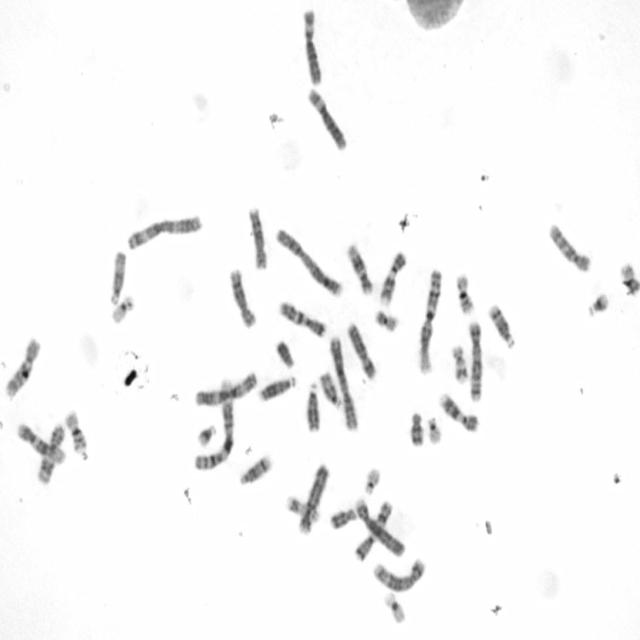A1: (193, 377, 237, 472), (416, 267, 443, 376)
A2: (274, 226, 344, 298), (329, 336, 360, 433)
A3: (126, 213, 205, 252), (194, 371, 258, 408)
B4: (354, 495, 406, 559), (296, 460, 331, 535)
B5: (373, 555, 426, 593), (467, 320, 483, 402)
C10: (3, 335, 42, 400), (547, 221, 591, 274)
C11: (35, 422, 66, 483), (347, 242, 375, 297)
C12: (17, 421, 67, 464)
C6: (307, 87, 349, 153), (300, 7, 326, 88)
C7: (353, 499, 394, 564), (278, 300, 326, 338)
C8: (228, 263, 258, 331), (248, 205, 268, 272)
C9: (438, 391, 480, 433), (379, 251, 407, 305)
D13: (257, 374, 296, 404), (304, 380, 322, 435)
D14: (488, 301, 517, 352), (236, 452, 273, 488)
D15: (110, 248, 128, 307), (318, 370, 344, 409)
E16: (64, 407, 88, 454), (455, 272, 476, 314)
E17: (286, 495, 321, 525), (450, 344, 469, 384)
E18: (328, 506, 358, 530), (409, 411, 424, 448)
F19: (110, 294, 136, 327), (383, 590, 407, 625)
F20: (620, 262, 640, 296), (373, 309, 399, 335)
G21: (586, 292, 610, 321), (196, 422, 217, 451)
G22: (426, 415, 445, 448), (364, 466, 381, 496)
X: (345, 320, 378, 381)
Y: (275, 340, 296, 370)
